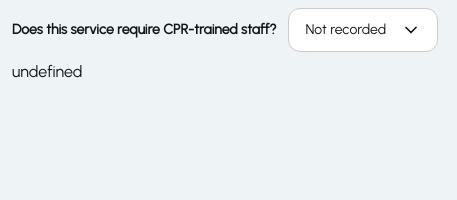
Test: keeps unanswered distinct and permits yes, no and clearing the answer
The image size is (457, 200).
Expected: the text "undefined" is shown, [12, 62, 82, 81]
Click the dropdown named "Does this service require CPR-trained staff?" at (364, 30), box [288, 8, 438, 52]
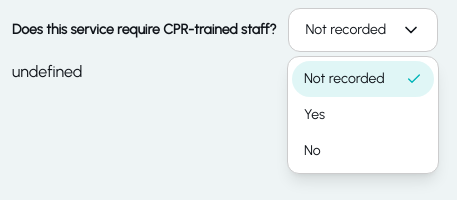
Click the option "Yes" at (315, 114), box [304, 106, 325, 123]
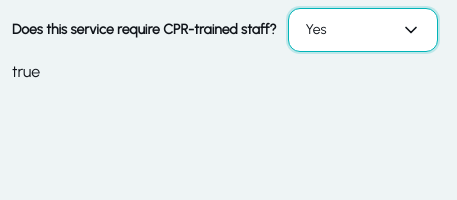
Result: the text "true" is shown at [12, 62, 40, 81]
Click the dropdown named "Does this service require CPR-trained staff?" at (364, 30), box [288, 8, 438, 52]
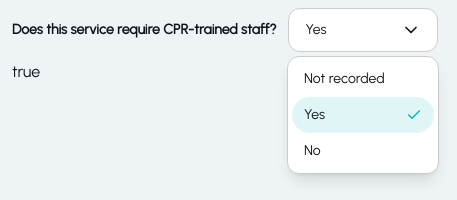
Click the option "No" at (312, 150), box [304, 142, 321, 159]
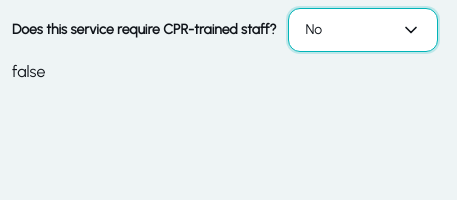
Result: the text "false" is shown at [12, 62, 45, 81]
Click the dropdown named "Does this service require CPR-trained staff?" at (364, 30), box [288, 8, 438, 52]
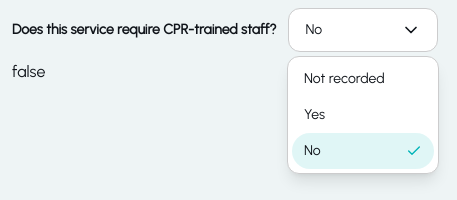
Click the option "Not recorded" at (344, 78), box [304, 70, 385, 87]
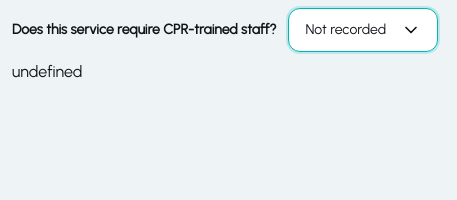
Result: the text "undefined" is shown at [12, 62, 82, 81]
